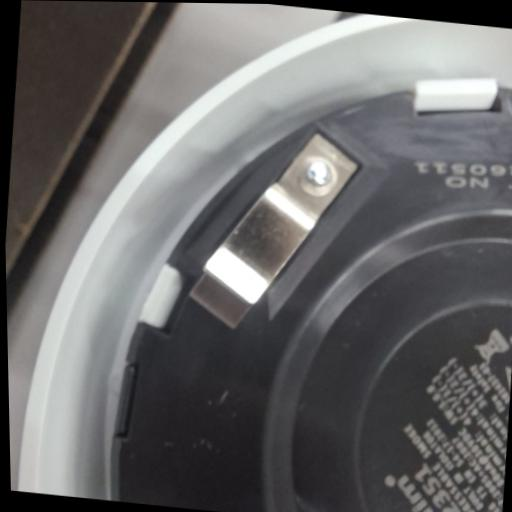yayli: (190, 134, 358, 328)
